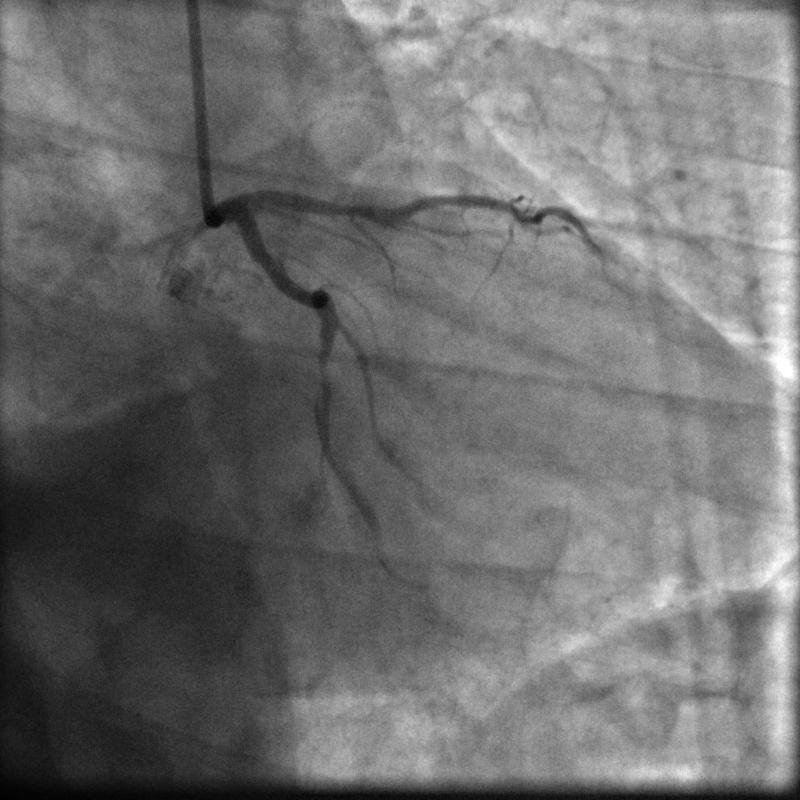Stenosis: (315, 354, 332, 388)
